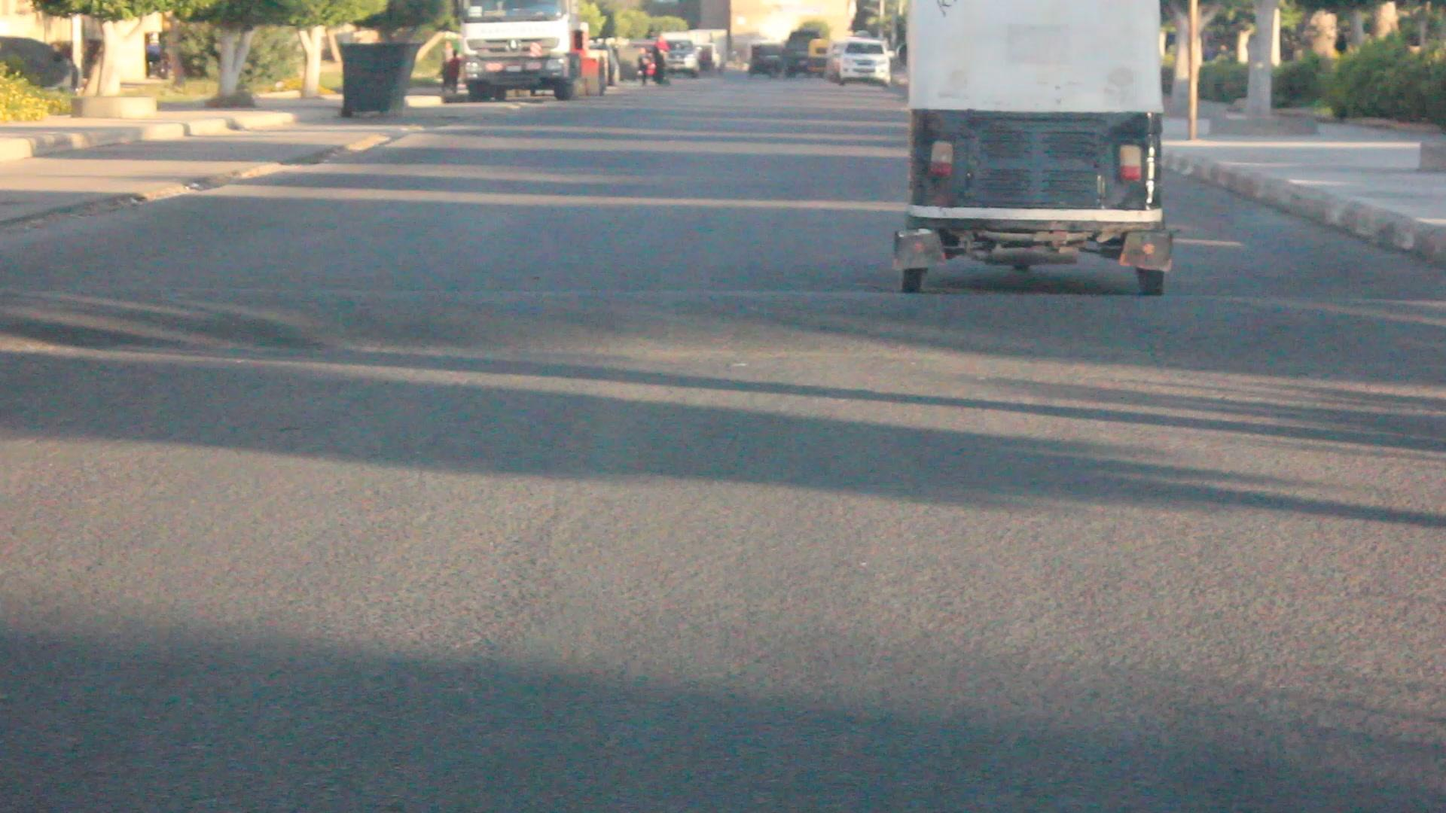Bump: (17, 282, 1446, 369)
